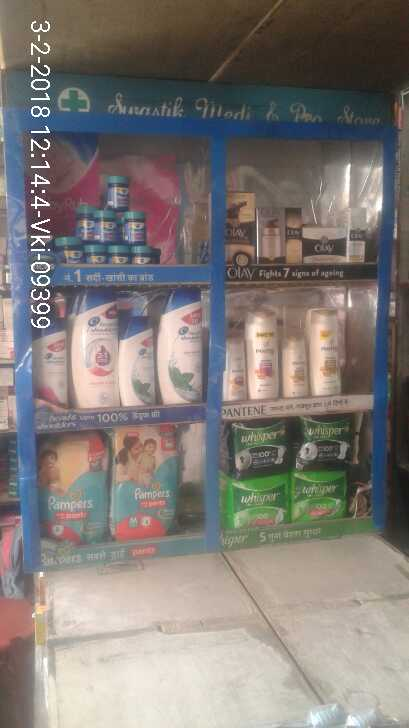vicks: (42, 171, 171, 268)
